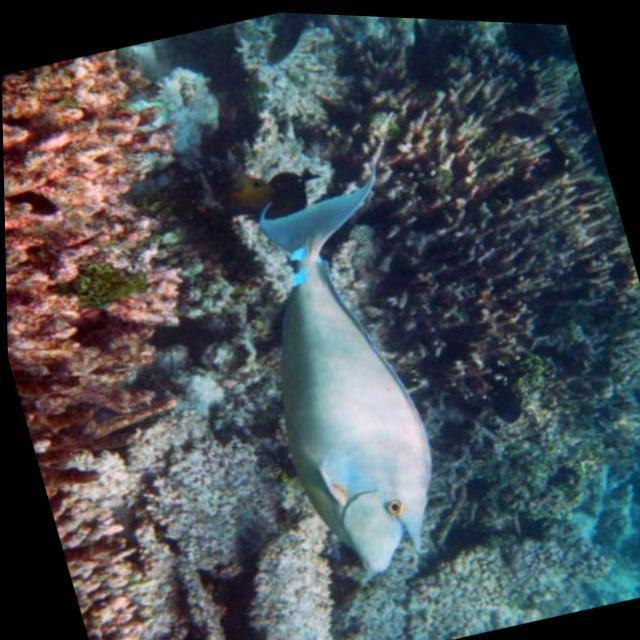Dead Coral: (311, 13, 640, 422)
